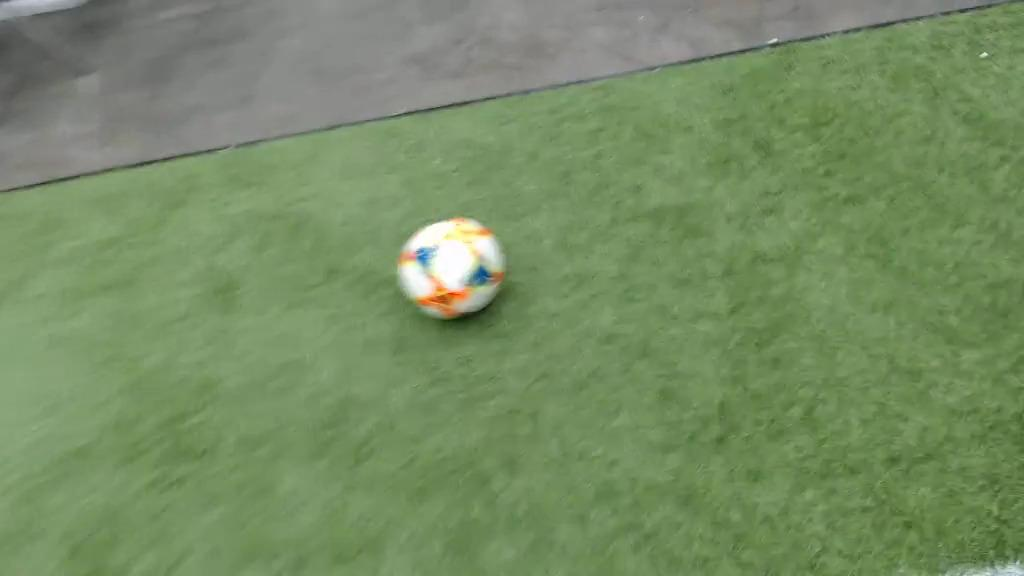ball: (397, 216, 503, 319)
